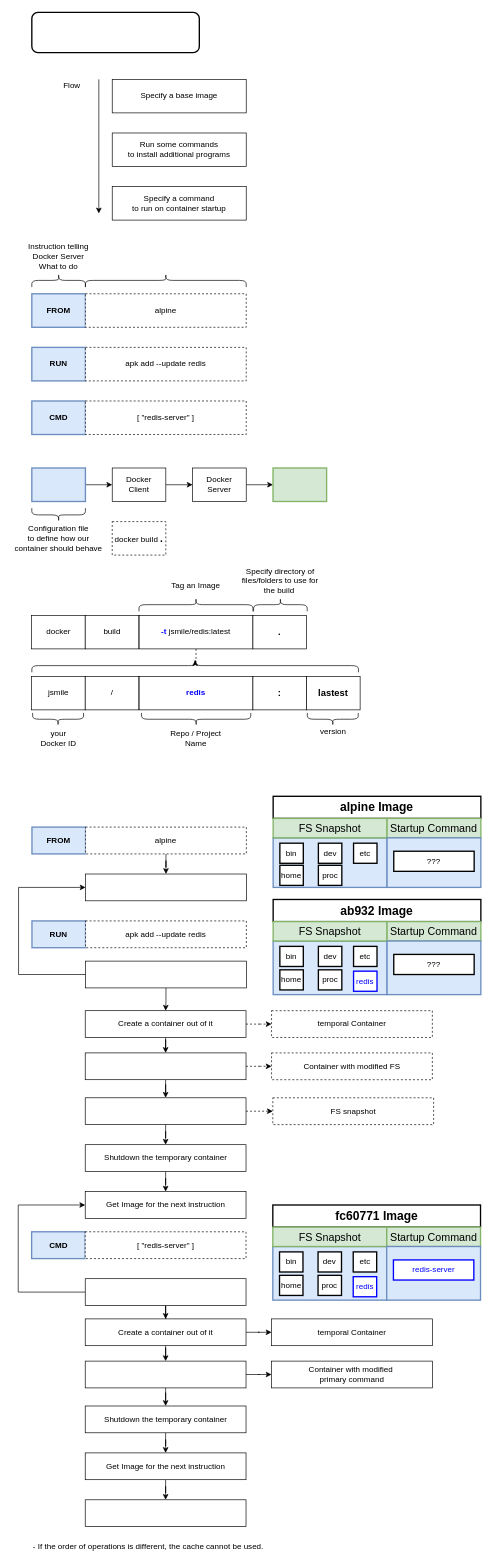
The diagram is 493 pixels wide and 1564 high, and some of its shapes have lost their labels. Each missing label, with the box of its shape:
Argument to the instruction: (85, 273, 246, 287)
Creating a Dockerfile: (31, 11, 200, 53)
Dockerfile: (31, 467, 86, 502)
Download alpine image: (85, 873, 246, 901)
Get Image from last step: (85, 1278, 246, 1305)
Get Image from previous step: (85, 960, 246, 988)
No more steps: (85, 1499, 246, 1527)
Run 'apk add --update redis' in it: (85, 1052, 246, 1080)
Take snapshot of that container's FS: (85, 1097, 246, 1125)
Tell container it should run 'redis-server' when started: (85, 1360, 246, 1388)
Usable Image: (272, 467, 327, 502)
